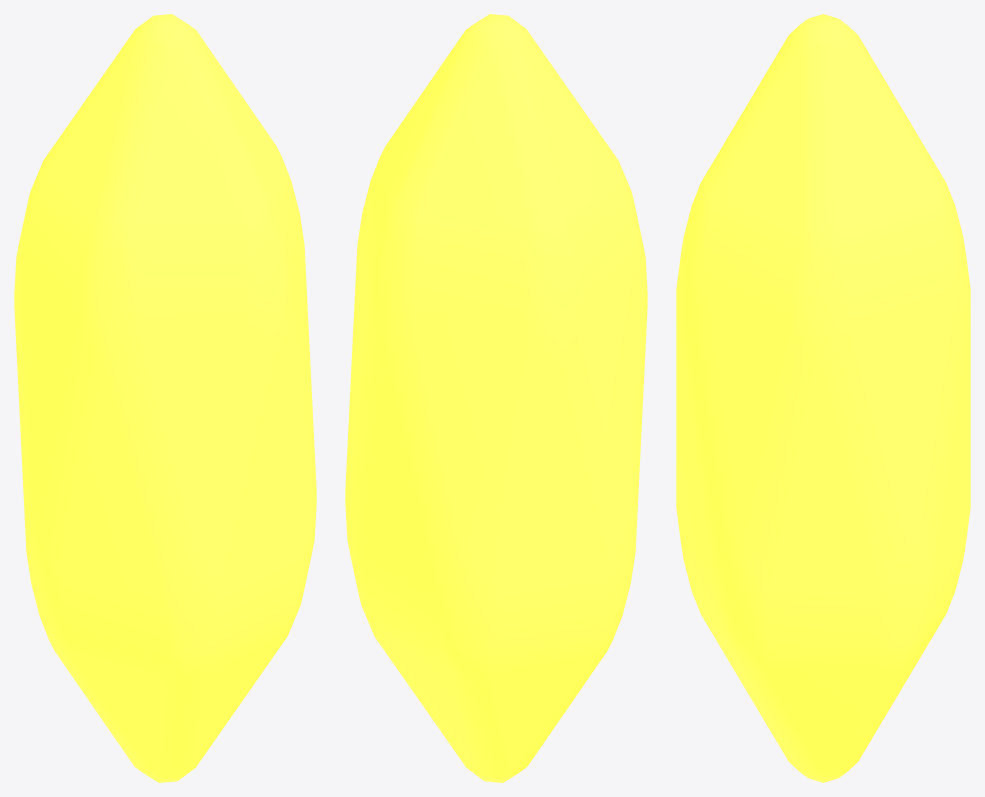
File: Crystal.fbx
3 renders of one model, left to right at view 1: azimuth 30°, elevation 25°; view 2: azimuth 150°, elevation 25°; view 3: azimuth 270°, elevation 25°, orthographic.
Parts seen in each view (by area): view 1: Memory crystal; view 2: Memory crystal; view 3: Memory crystal.
Boxes of the visible parts, box(x1,y1,x2,y2) form: Memory crystal: box(14, 14, 316, 782); Memory crystal: box(345, 14, 647, 782); Memory crystal: box(676, 14, 970, 782).
Size of the model in its own units: 38.5 by 106 by 37.33.
